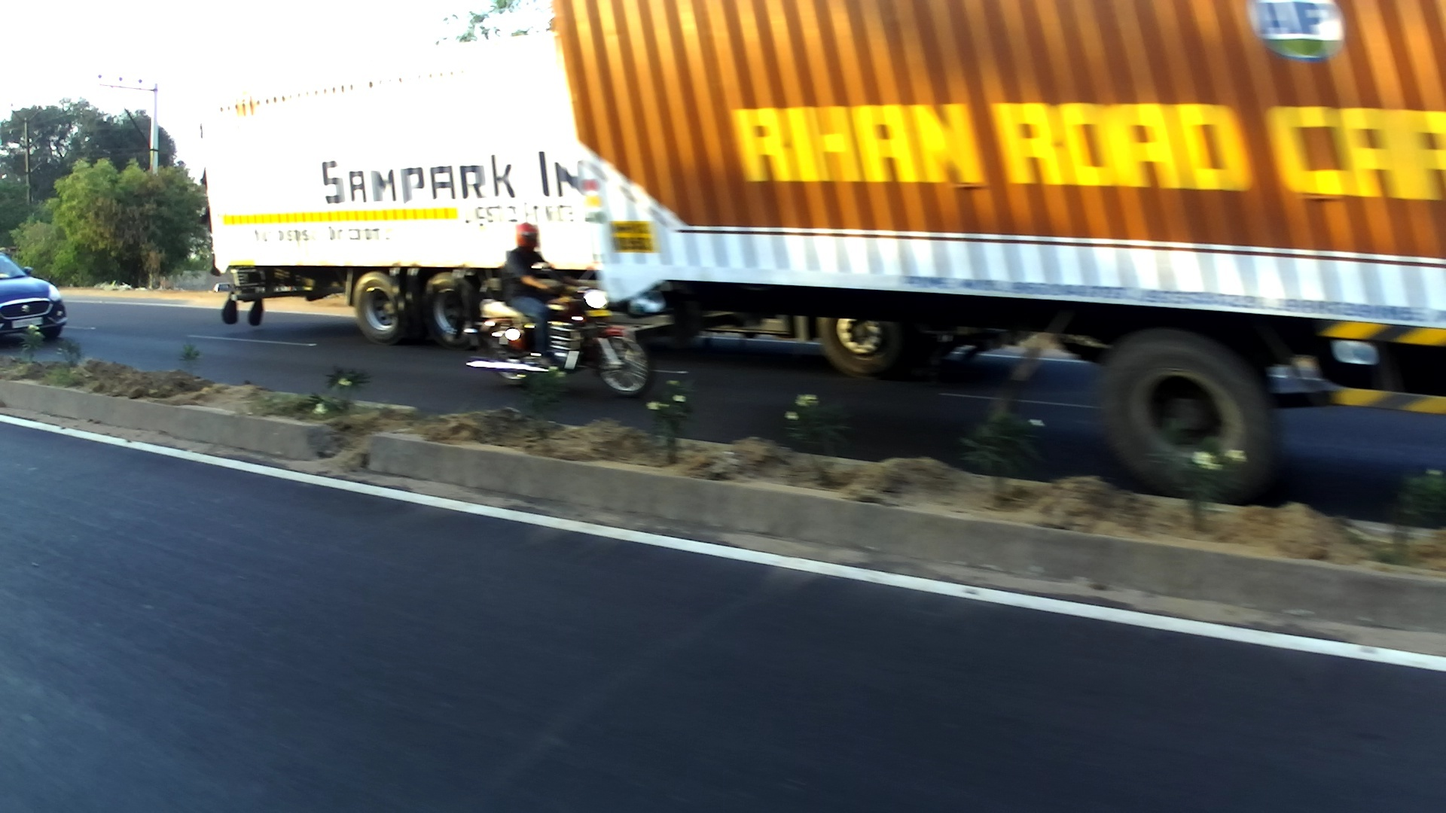car: (1, 251, 66, 347)
motorcycle: (467, 259, 656, 397)
rider: (494, 222, 581, 373)
truck: (548, 0, 1446, 513), (194, 26, 583, 347)
